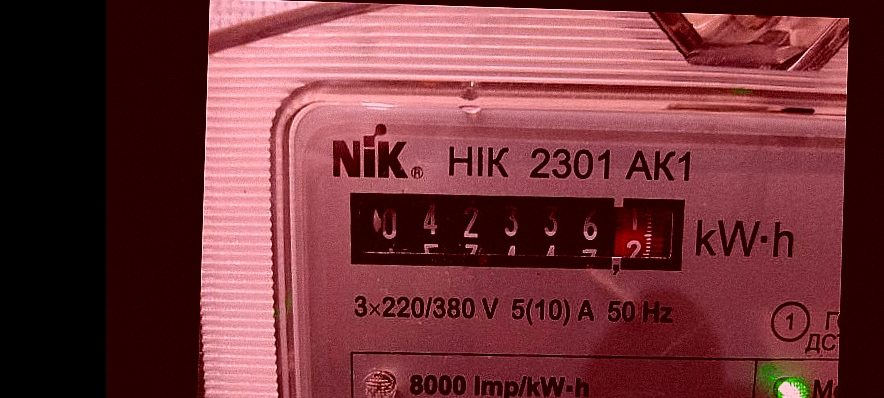0: (379, 205, 400, 241)
1: (627, 204, 641, 233)
2: (460, 203, 481, 240), (623, 238, 643, 259)
3: (539, 202, 560, 239), (501, 201, 521, 239)
4: (420, 199, 440, 237)
6: (578, 206, 601, 242)
screen: (340, 179, 695, 283)
